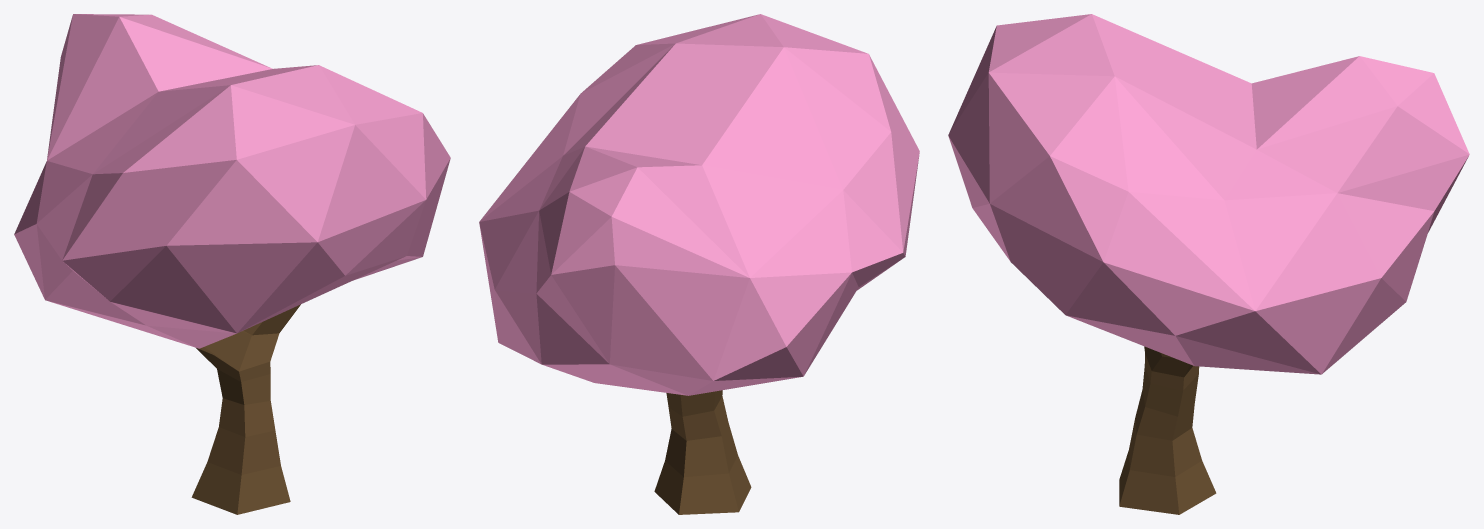
File: Kirschbaum.fbx
3 views of the same model, side by side, from view 1: azimuth 30°, elevation 25°; view 2: azimuth 150°, elevation 25°; view 3: azimuth 270°, elevation 25° (orthographic). The views are drawn at different scales.
Visible parts, largest first — view 1: Icosphere.030; view 2: Icosphere.030; view 3: Icosphere.030.
Part boxes in pixels (x1,y1,x2,y2): Icosphere.030: (14, 14, 450, 514); Icosphere.030: (479, 14, 919, 514); Icosphere.030: (948, 14, 1469, 514).
Bounding box in the file's own units: 326 × 368 × 381.
